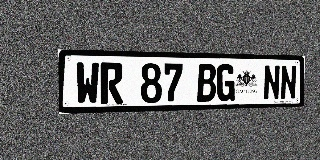7: (162, 63, 183, 103)
8: (141, 63, 162, 103)
B: (197, 64, 216, 102)
G: (216, 64, 235, 101)
N: (263, 65, 280, 100), (280, 65, 297, 100)
R: (100, 62, 123, 104)
W: (75, 62, 99, 105)
